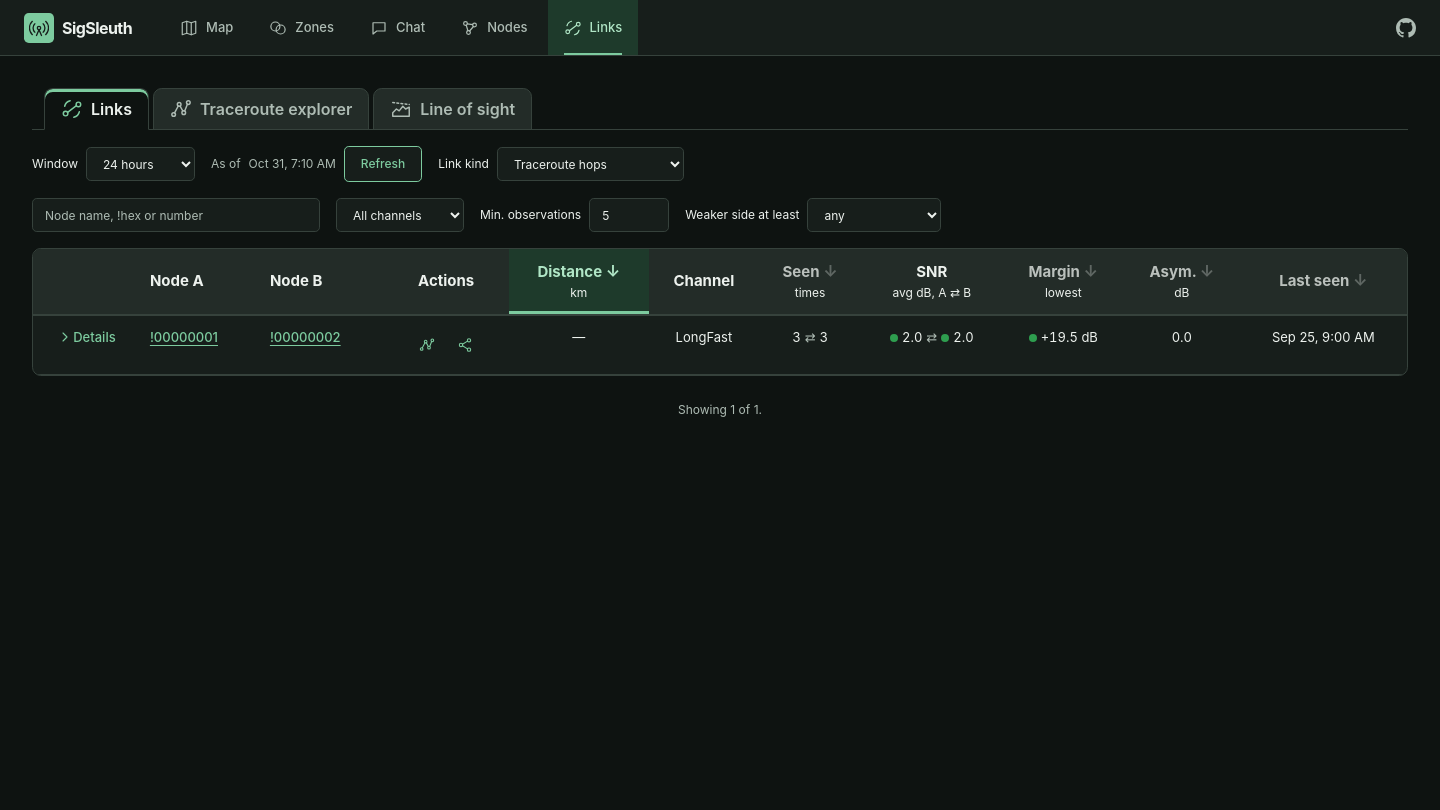
Test: Links › opens a traceroute link's details from its row and links the explorer
// A click anywhere on the row opens it.
Click the text "LongFast" at (704, 344), box [649,314,759,374]
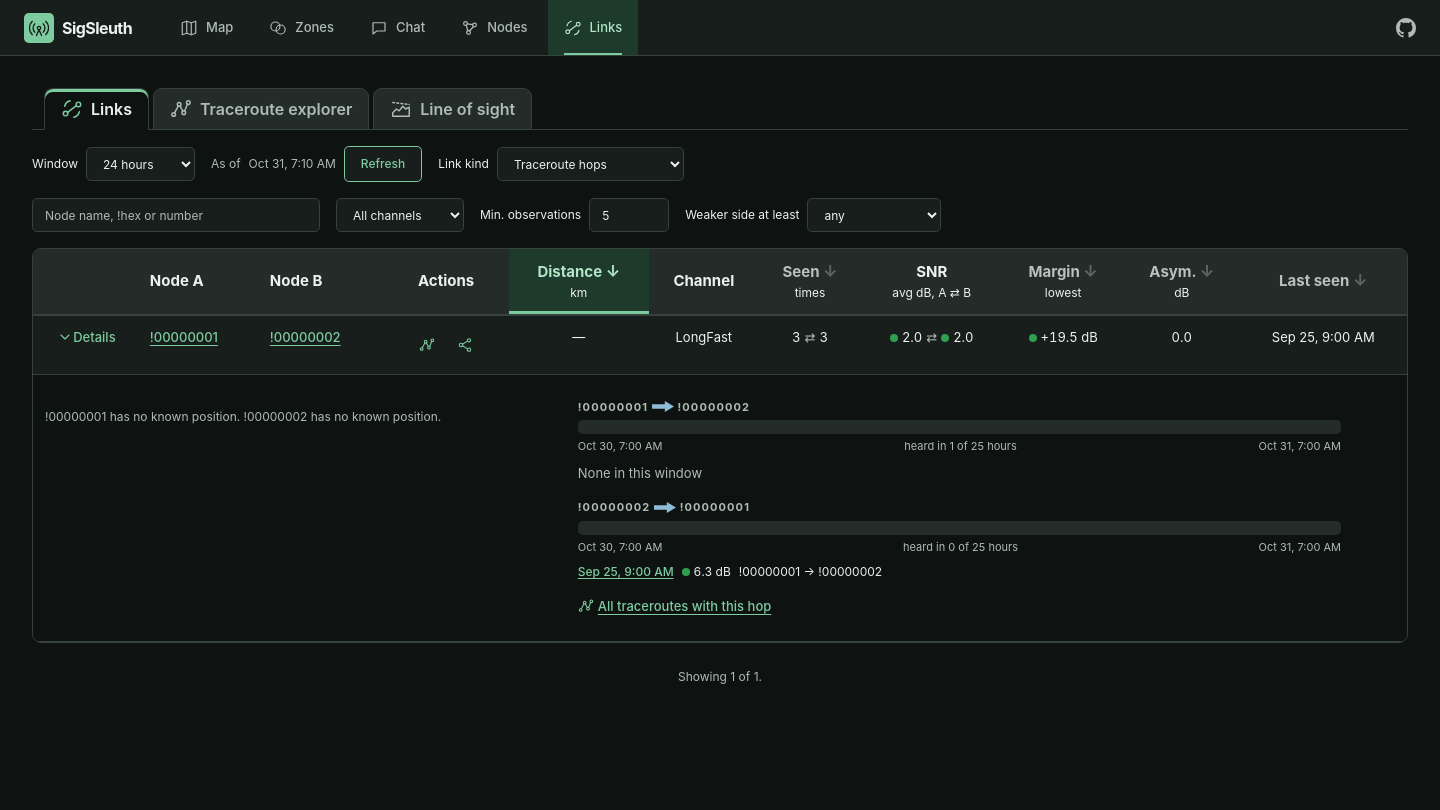
Expected: the text "has no known position" is shown, [45,408,441,424]
